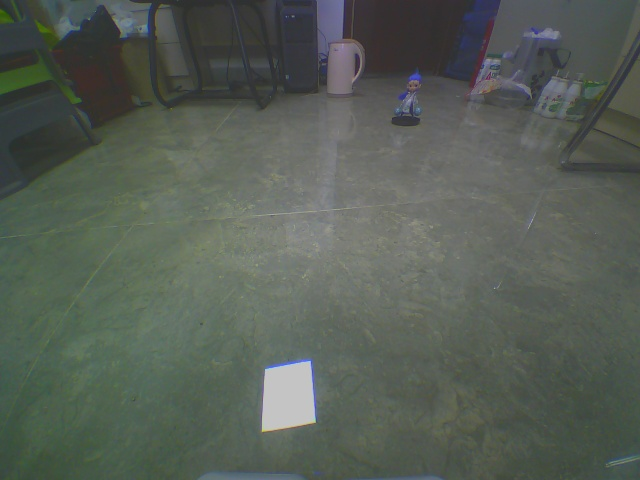Aobing: (393, 67, 429, 134)
